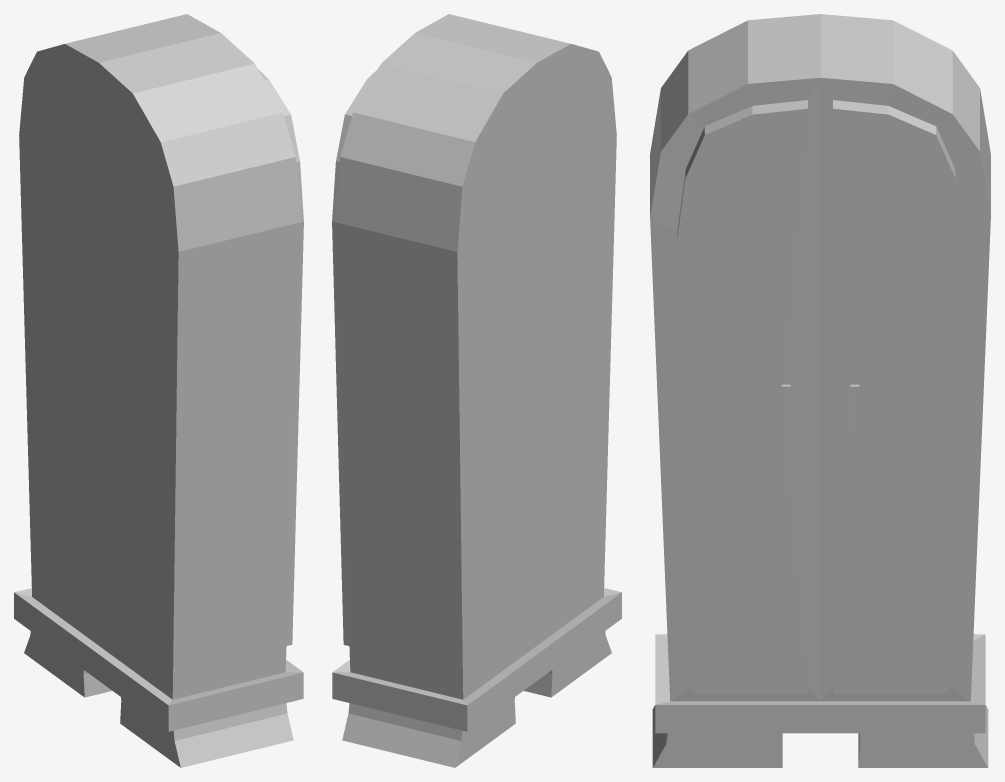
Rendered from Closet.glb.
The picture shows the model from 3 angles, left to right: view 1: azimuth 30°, elevation 25°; view 2: azimuth 150°, elevation 25°; view 3: azimuth 270°, elevation 25°; orthographic projection. The views are drawn at different scales.
Visible parts, largest first — view 1: Closet; view 2: Closet; view 3: Closet.
Part boxes in pixels (bbox=[...]): Closet: bbox=[14, 14, 303, 767]; Closet: bbox=[332, 14, 621, 767]; Closet: bbox=[650, 14, 990, 767].
Size of the model in its own units: 0.3533 by 1.48 by 0.6605.
Materials: 2 (2 with a texture image).
